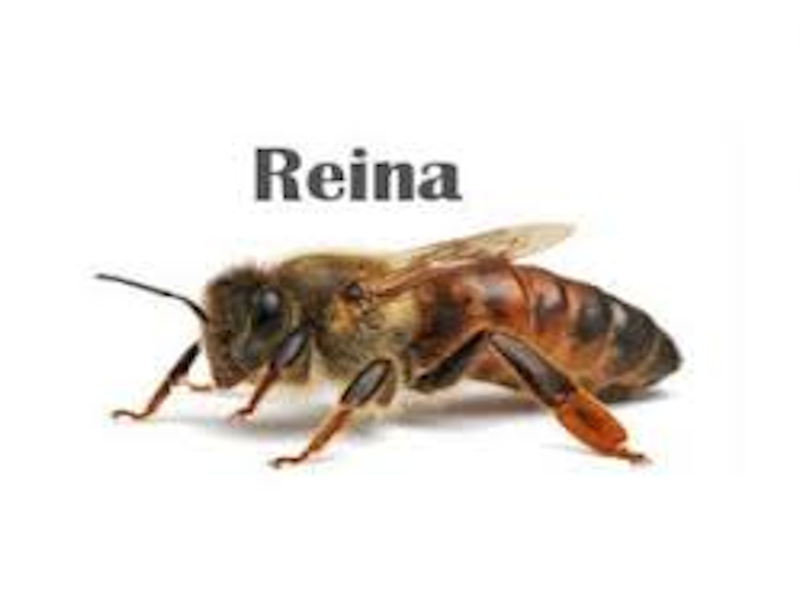abeja: (80, 213, 722, 503)
